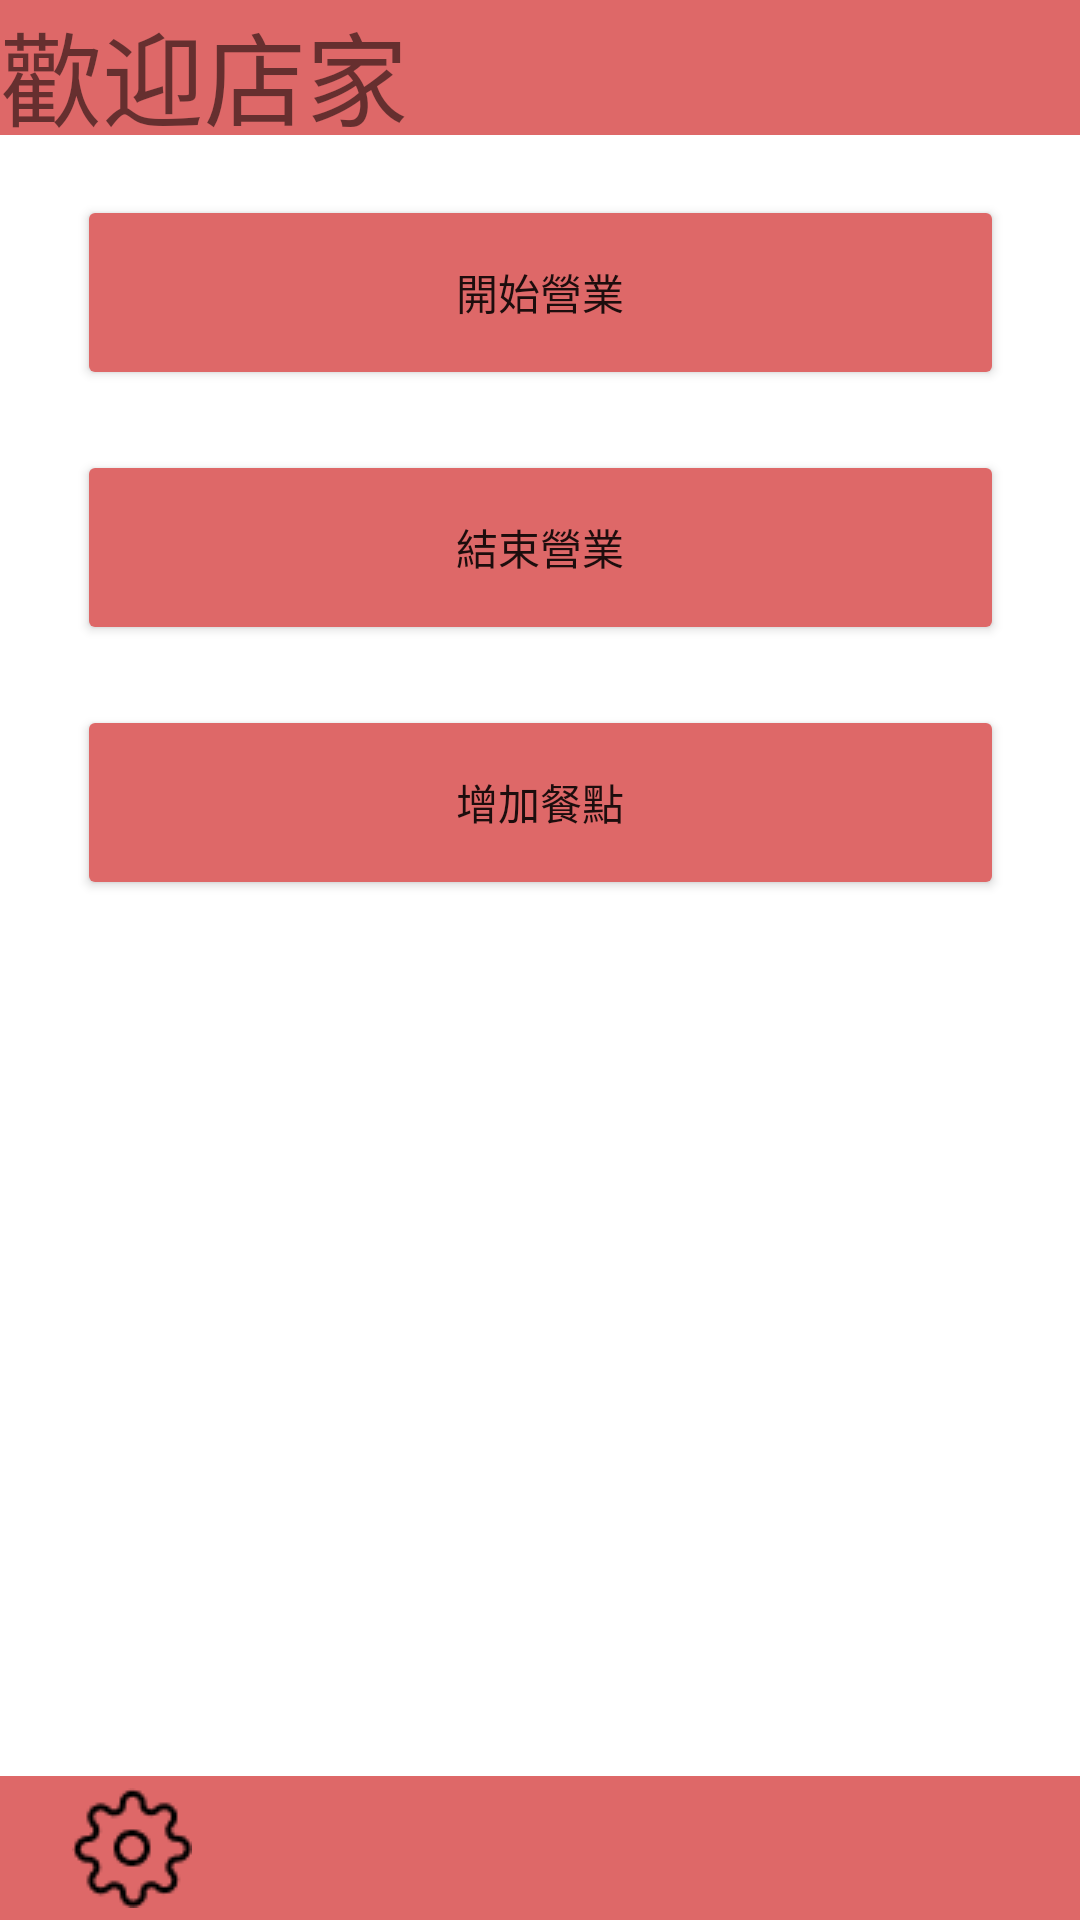

Where to tap for icons on this 1080w x 1920h app screen, as [x,y]:
settings: [132,1849]
